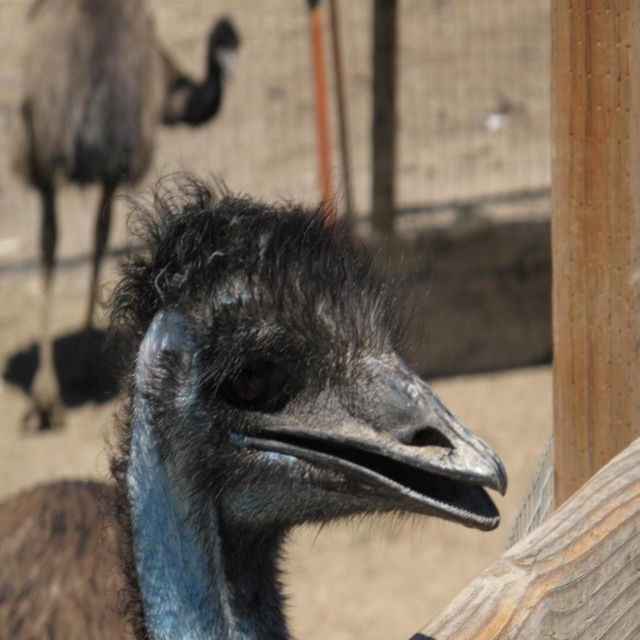Ostrich: (0, 151, 508, 640), (4, 0, 245, 428)
